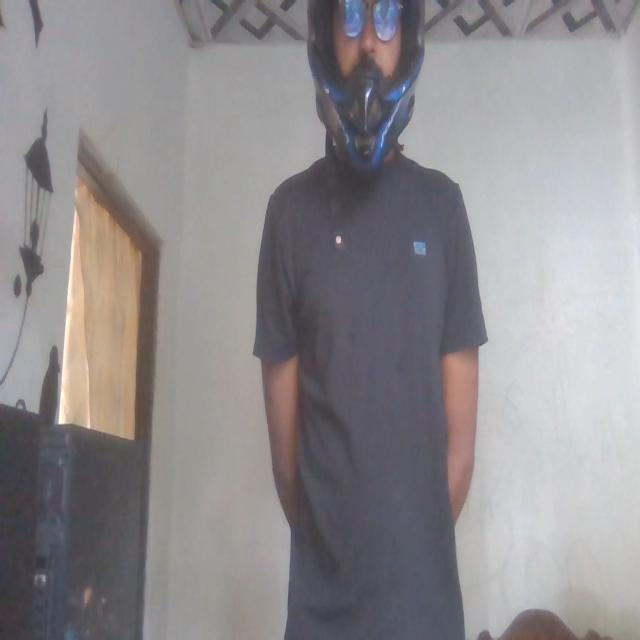Helmet_Wearer: (305, 0, 439, 188)
Person: (256, 0, 482, 640)
